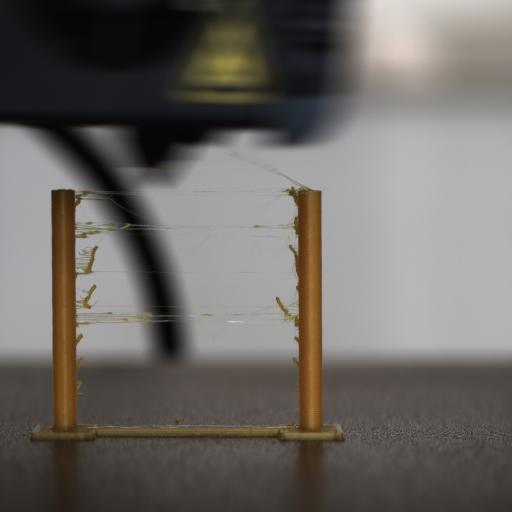stringing: (80, 190, 165, 228), (87, 188, 295, 197), (278, 248, 300, 318), (235, 298, 295, 320), (253, 190, 289, 219), (270, 204, 300, 238), (272, 166, 310, 190), (206, 317, 240, 340), (75, 243, 99, 274), (76, 284, 97, 310), (272, 404, 299, 424), (74, 224, 114, 236), (76, 189, 122, 199), (294, 339, 300, 397), (196, 225, 212, 246), (74, 220, 112, 228), (74, 192, 88, 206), (78, 246, 97, 256), (288, 244, 298, 262), (78, 320, 96, 326), (75, 333, 83, 345), (76, 356, 84, 368), (292, 357, 300, 368), (76, 232, 88, 239), (140, 312, 153, 318), (76, 380, 82, 392), (276, 296, 283, 306), (200, 313, 214, 317), (105, 311, 113, 315)
